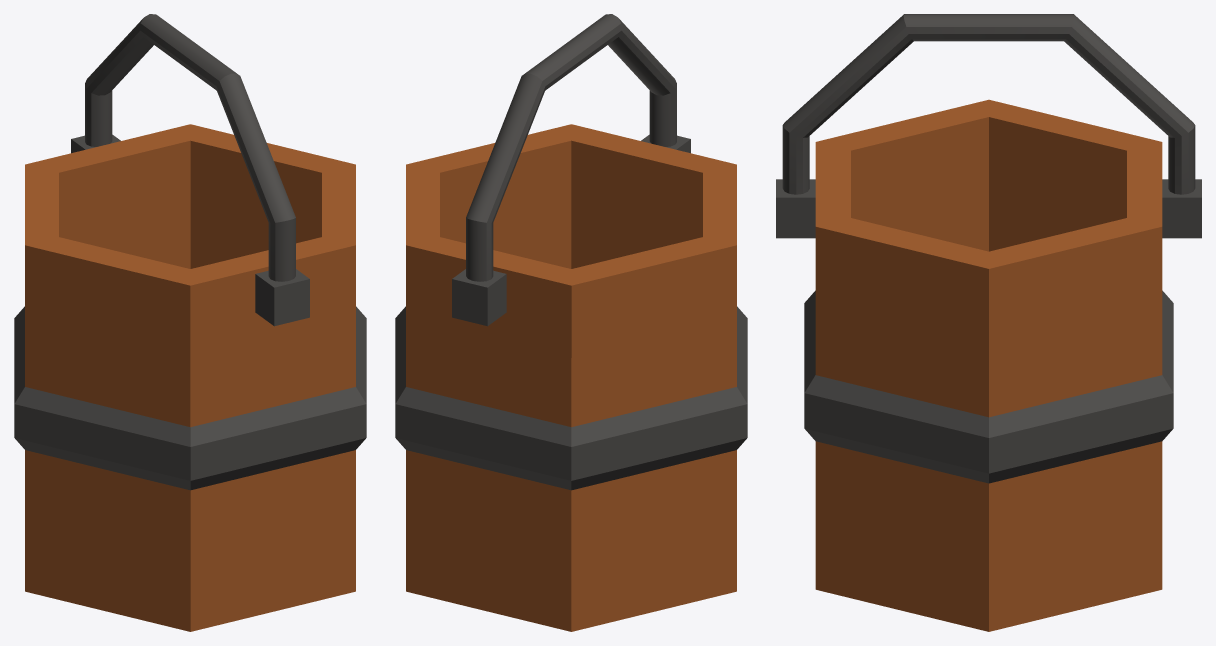
Rendered from Bucket.fbx.
3 renders of one model, left to right at view 1: azimuth 30°, elevation 25°; view 2: azimuth 150°, elevation 25°; view 3: azimuth 270°, elevation 25°, orthographic. The views are drawn at different scales.
Parts seen in each view (by area): view 1: Bucket; view 2: Bucket; view 3: Bucket.
Boxes of the visible parts, <box> form: Bucket: <box>14,14,366,631</box>; Bucket: <box>395,14,747,631</box>; Bucket: <box>776,14,1201,631</box>.
Bounding box in the file's own units: 72.31 × 99.56 × 72.25.
